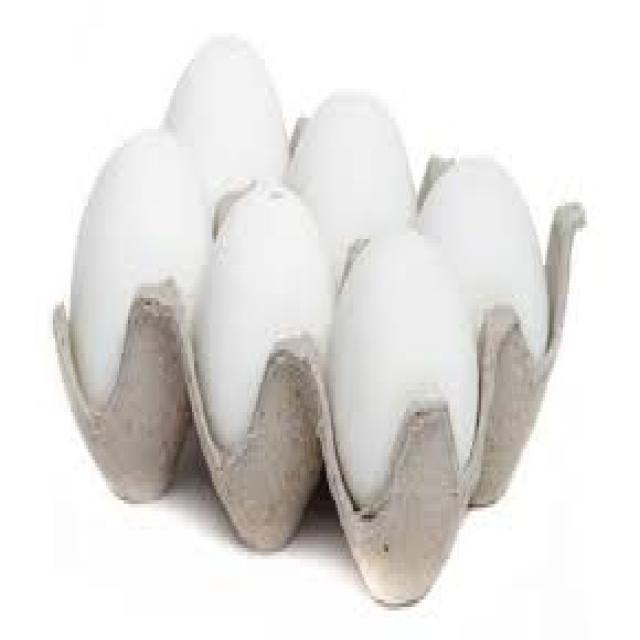White Egg: (54, 127, 206, 422), (334, 218, 479, 510), (197, 180, 327, 492), (422, 139, 552, 371), (168, 27, 292, 201), (291, 80, 407, 246)
